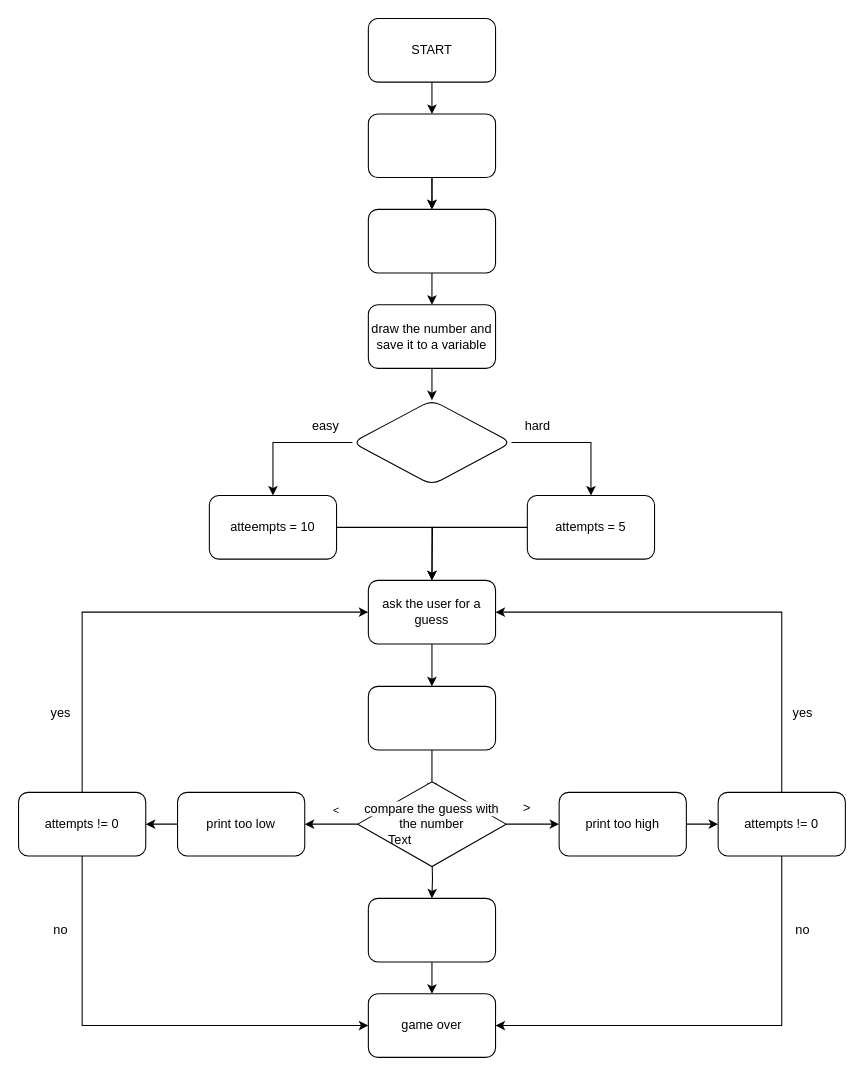
The diagram is 864 pixels wide and 1076 high, and some of its shapes have lost their labels. The centre of each missing label's shape, as x and y in pixels:
"attempts -= 1" belongs at point 431,717.
"got the guess right" belongs at point 431,929.
"print logo / Welcome to the Number Gussing Game!" belongs at point 431,145.
"prompt the user to choose" belongs at point 431,442.
"tell the user that a random number between 1 and 100 will be chosen" belongs at point 431,240.
